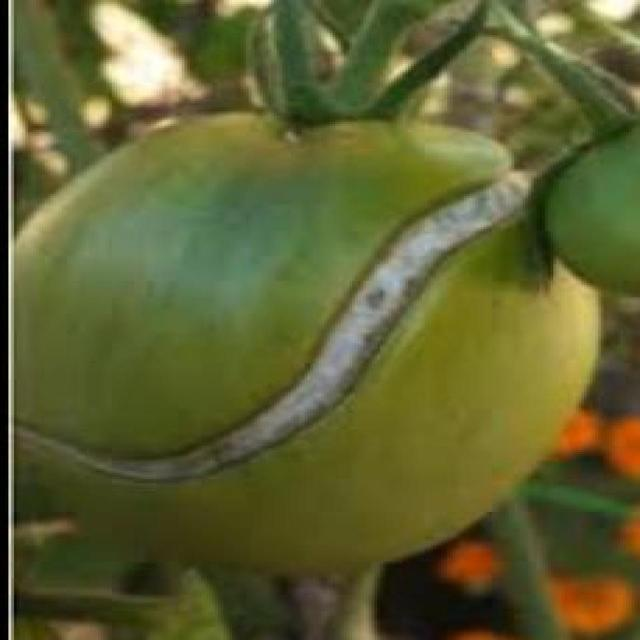Cracking Fruit: (5, 106, 356, 331)
